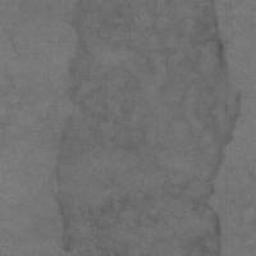Water spot: (52, 0, 242, 256)
